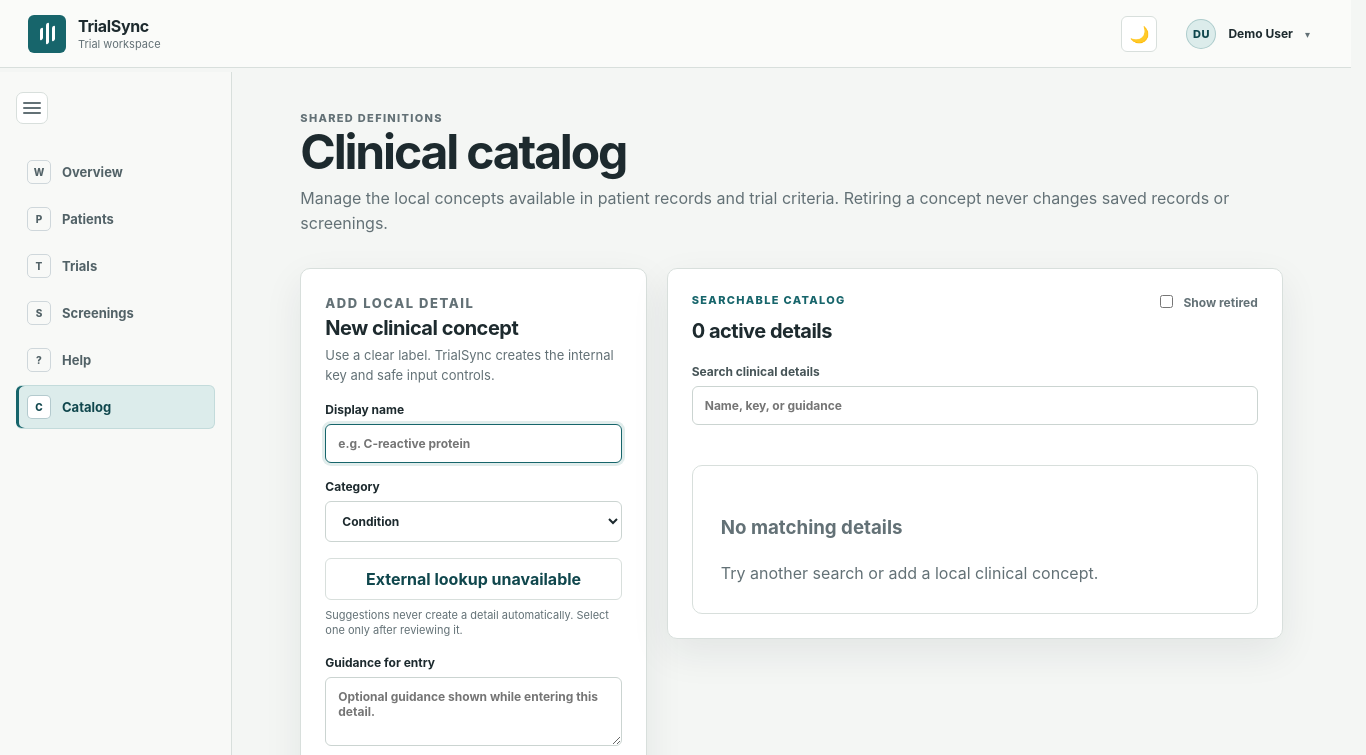
Test: TrialSync Phase 5 screening workflow › lets a catalog administrator add a local clinical detail
Expected: the heading "Clinical catalog" is shown, [300,122,626,181]
In the field labelled "Display name": [474, 443] box [325,424,622,462], type "C-reactive protein"
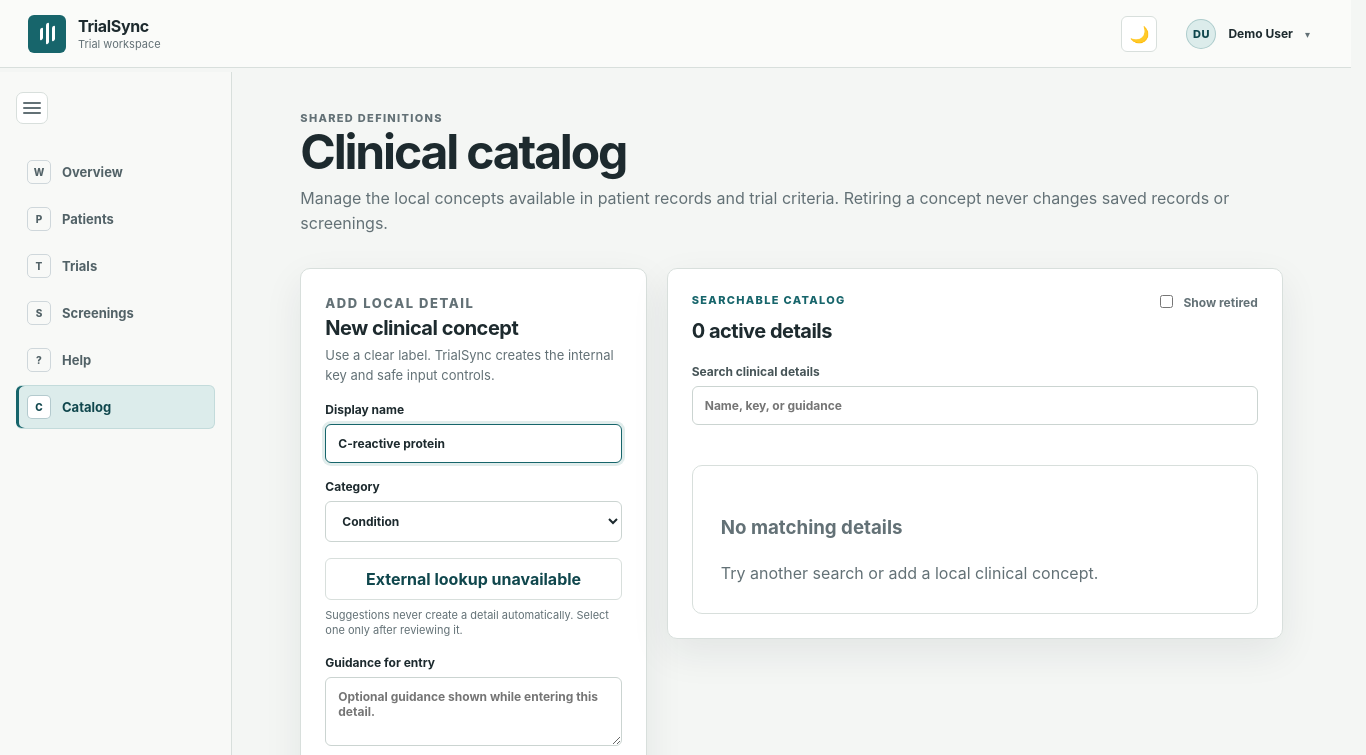
Select "Lab or observation" in the dropdown labelled "Category": [474, 521] box [325,500,622,542]
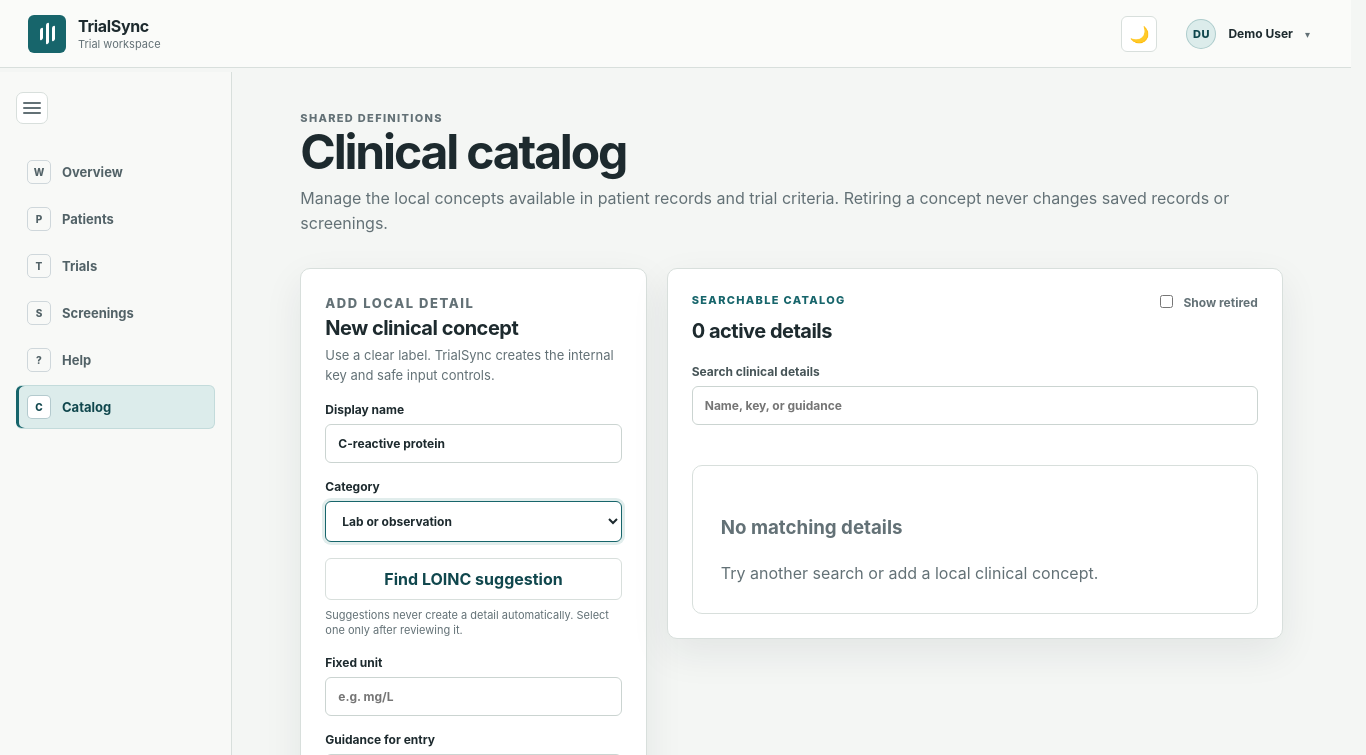
In the field labelled "Fixed unit": [474, 697] box [325,677,622,716], type "mg/L"
(page scrolled)
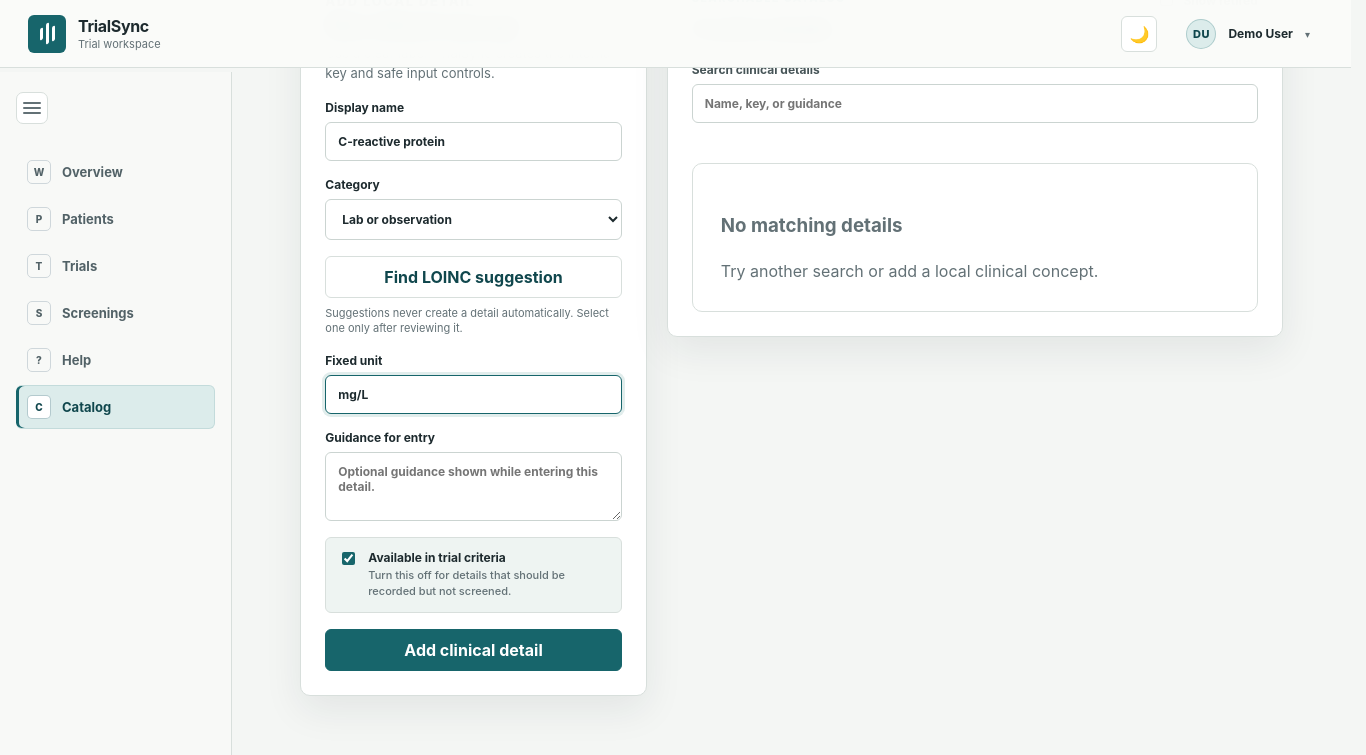
Click the button "Add clinical detail": [474, 650] box [325,629,622,671]
(page scrolled)
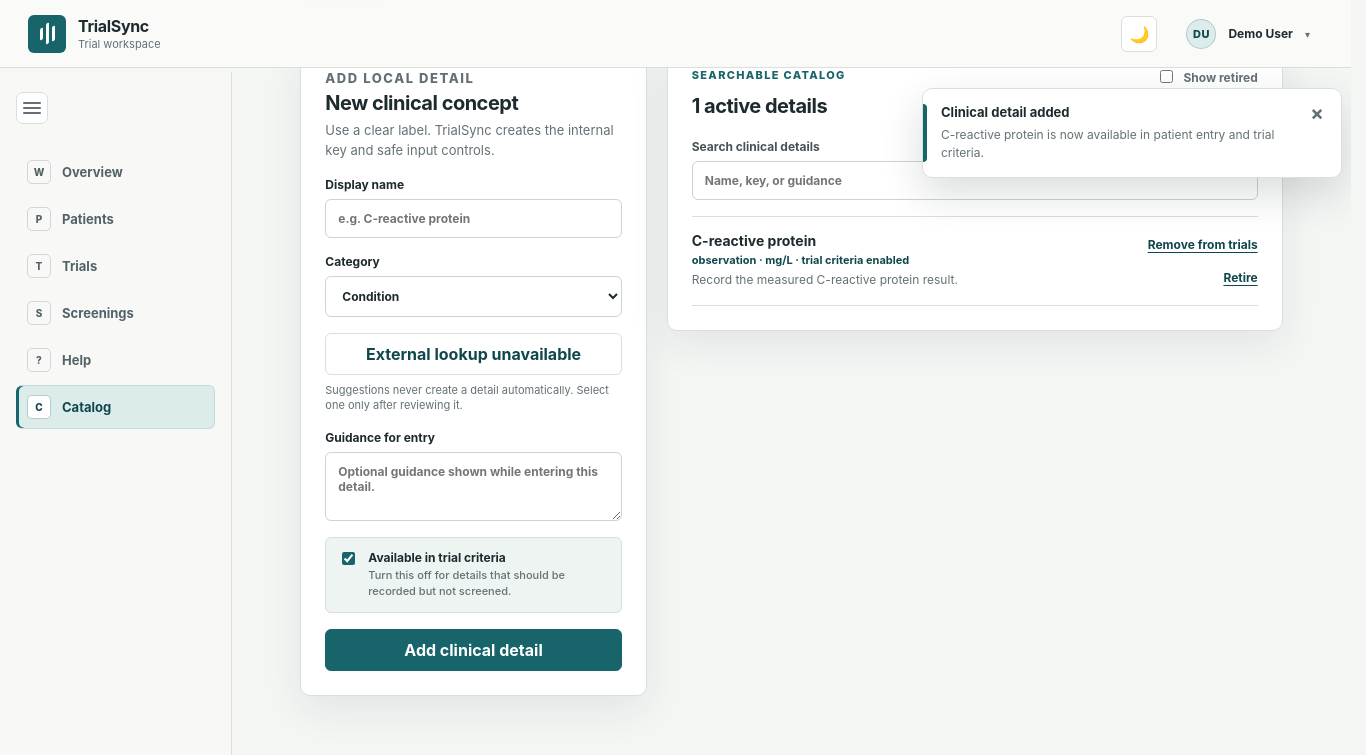
Expected: the text "Clinical detail added" is shown, [941,104,1070,120]
